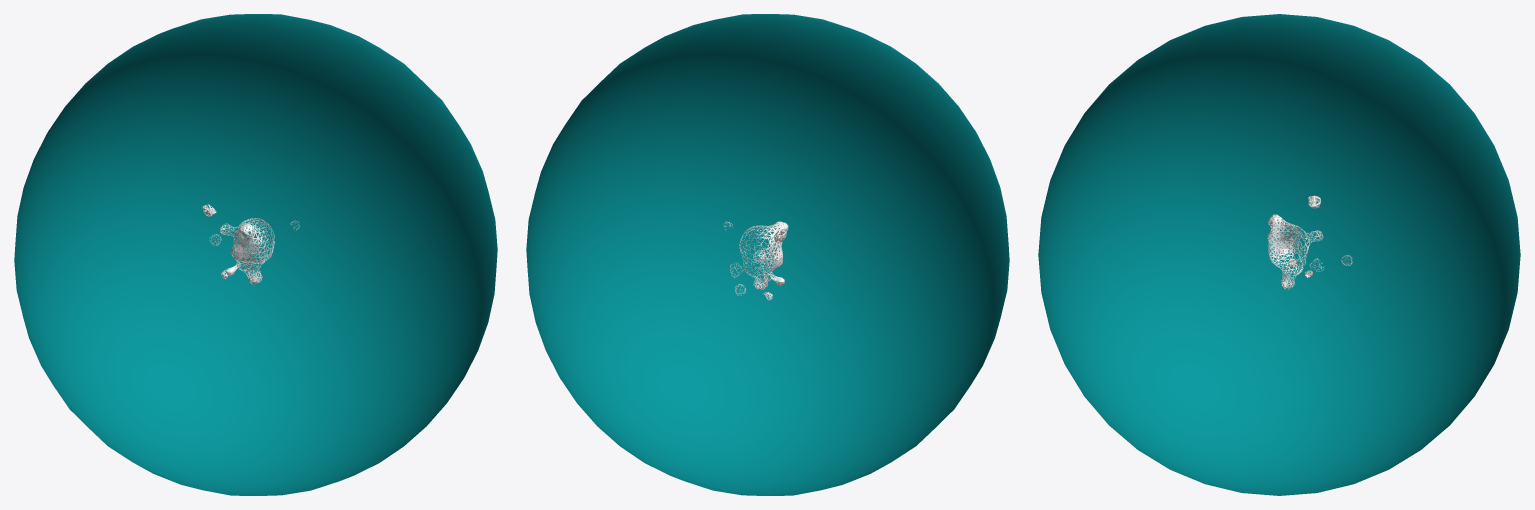
File: structured_blob.glb
The picture shows the model from 3 angles, left to right: view 1: azimuth 30°, elevation 25°; view 2: azimuth 150°, elevation 25°; view 3: azimuth 270°, elevation 25°; orthographic projection.
Visible parts, largest first — view 1: Object_2, Object_7; view 2: Object_2, Object_7; view 3: Object_2, Object_7.
Part boxes in pixels (x1,y1,x2,y2): Object_2: (14,14,497,495); Object_7: (202,204,298,284); Object_2: (526,14,1009,495); Object_7: (723,221,788,300); Object_2: (1038,14,1520,495); Object_7: (1267,195,1352,289).
Bounding box in the file's own units: 492 × 492 × 492.
